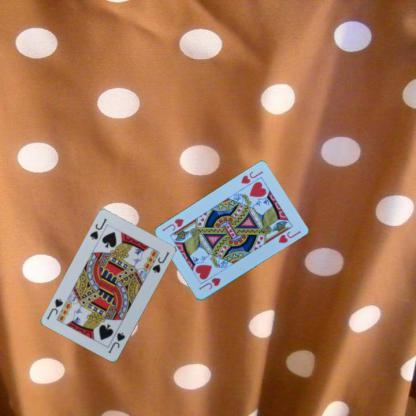Jh: (238, 168, 264, 186), (196, 275, 222, 292)
Js: (106, 330, 127, 355), (87, 216, 108, 241)
